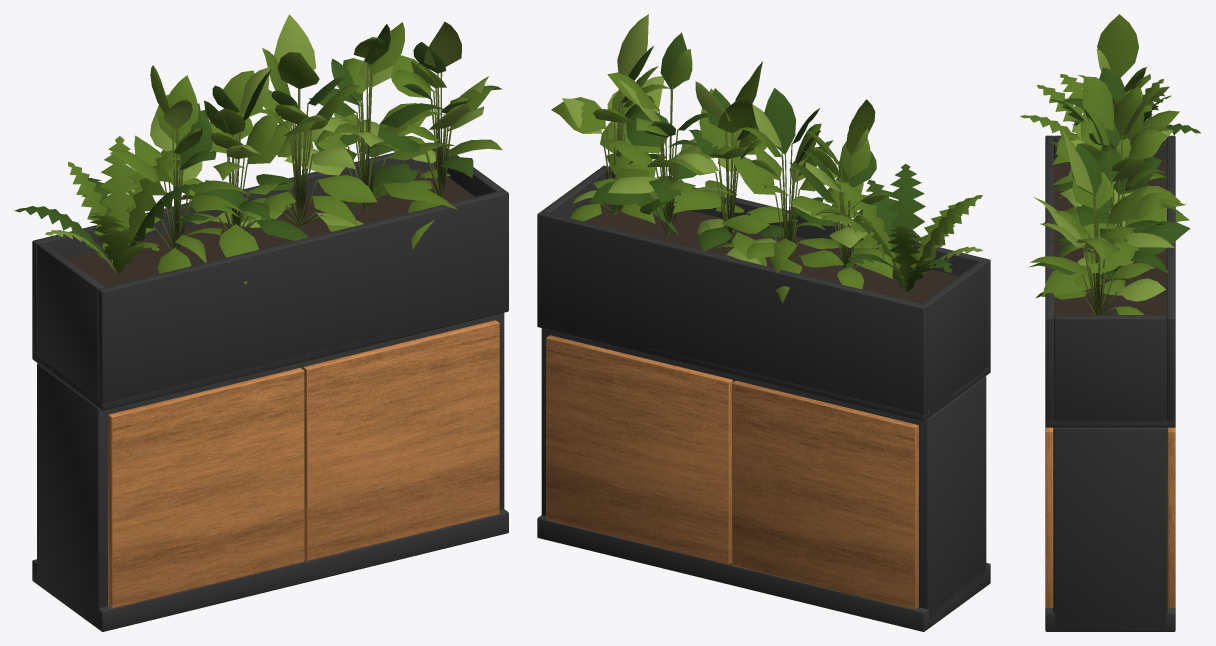
File: greenery.planter-divider-short.glb
The picture shows the model from 3 angles, left to right: view 1: azimuth 30°, elevation 25°; view 2: azimuth 150°, elevation 25°; view 3: azimuth 270°, elevation 25°; orthographic projection. The views are drawn at different scales.
Visible parts, largest first — view 1: greenery.planter-divider-short.001; view 2: greenery.planter-divider-short.001; view 3: greenery.planter-divider-short.001.
Part boxes in pixels (x1,y1,x2,y2): greenery.planter-divider-short.001: (14,14,508,631); greenery.planter-divider-short.001: (537,14,990,631); greenery.planter-divider-short.001: (1020,14,1200,631).
Size of the model in its own units: 1.12 by 1.22 by 0.42.
7 materials, 1 textured.
